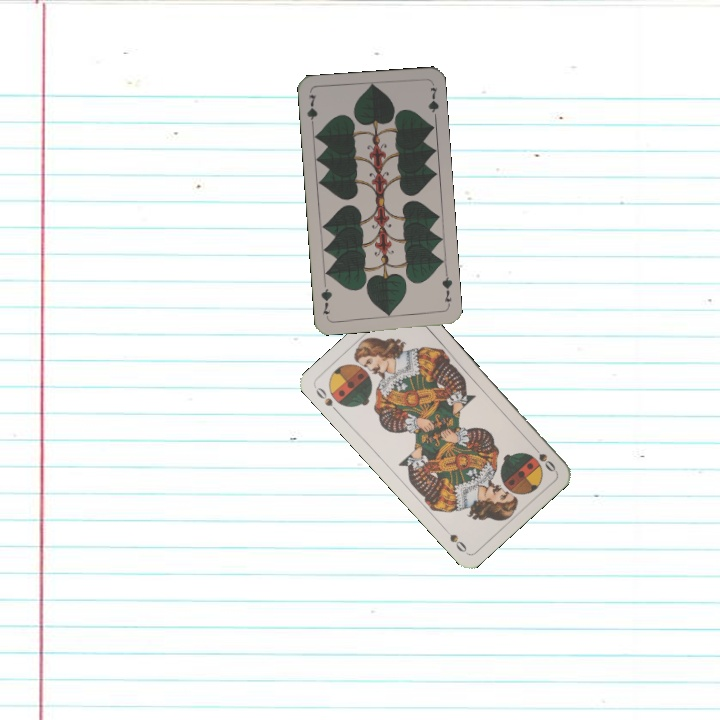G7: (438, 269, 455, 310), (303, 91, 320, 131)
SO: (527, 441, 558, 474), (311, 383, 342, 416)
